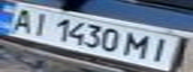0: (100, 25, 124, 55)
1: (48, 16, 72, 43)
3: (81, 21, 103, 51)
4: (66, 19, 87, 46)
A: (3, 6, 39, 34)
I: (145, 34, 175, 64), (24, 9, 54, 37)
M: (124, 29, 157, 61)
